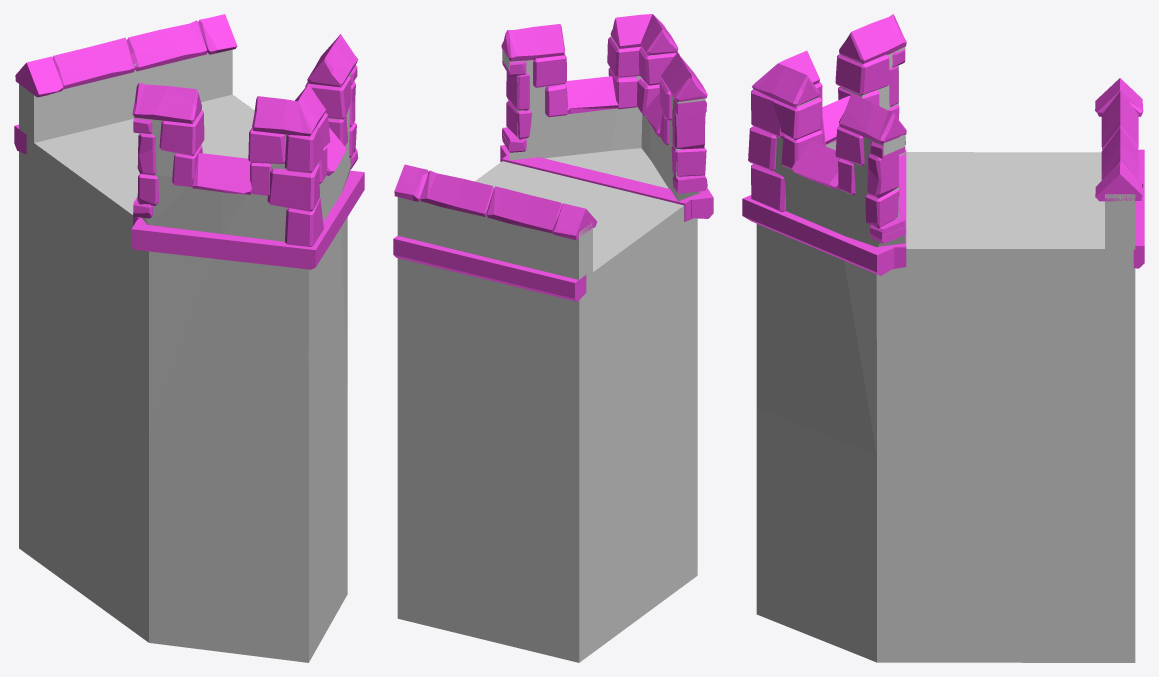
The model's file is SM_Rampart_3x6m_Battlement_Guard_Back_A_Fantasy_Base.fbx.
3 renders of one model, left to right at view 1: azimuth 30°, elevation 25°; view 2: azimuth 150°, elevation 25°; view 3: azimuth 270°, elevation 25°, orthographic. The views are drawn at different scales.
Visible parts, largest first — view 1: SM_Rampart_3x6m_Battlement_Guard_Back_A_Fantasy_Base; view 2: SM_Rampart_3x6m_Battlement_Guard_Back_A_Fantasy_Base; view 3: SM_Rampart_3x6m_Battlement_Guard_Back_A_Fantasy_Base.
Boxes of the visible parts, bbox=[...] form: SM_Rampart_3x6m_Battlement_Guard_Back_A_Fantasy_Base: bbox=[14, 14, 364, 662]; SM_Rampart_3x6m_Battlement_Guard_Back_A_Fantasy_Base: bbox=[393, 14, 713, 662]; SM_Rampart_3x6m_Battlement_Guard_Back_A_Fantasy_Base: bbox=[742, 14, 1144, 662].
Bounding box in the file's own units: 3.52 × 8.01 × 5.29.
